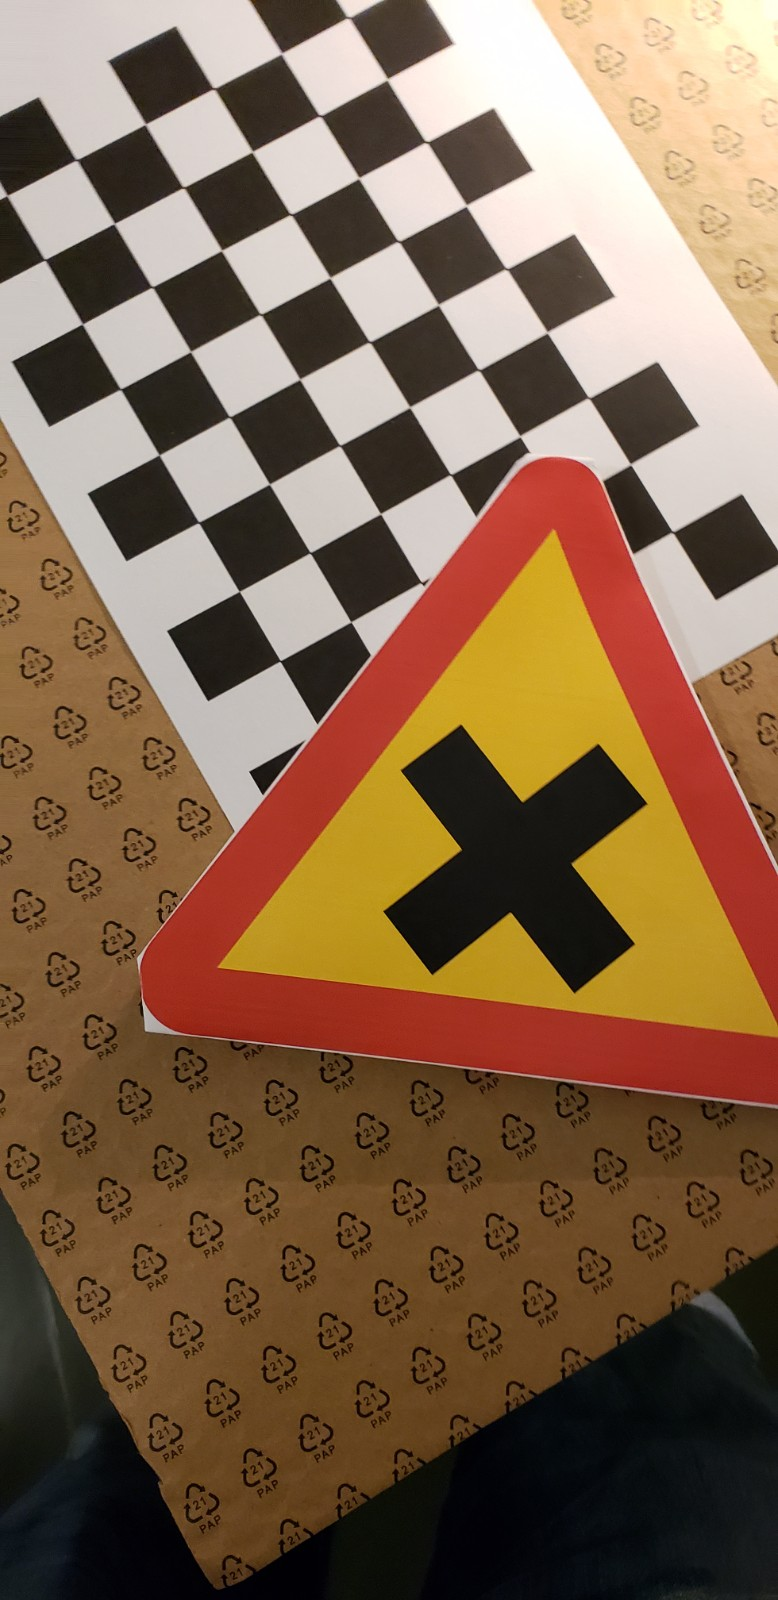junction: (85, 369, 778, 1142)
